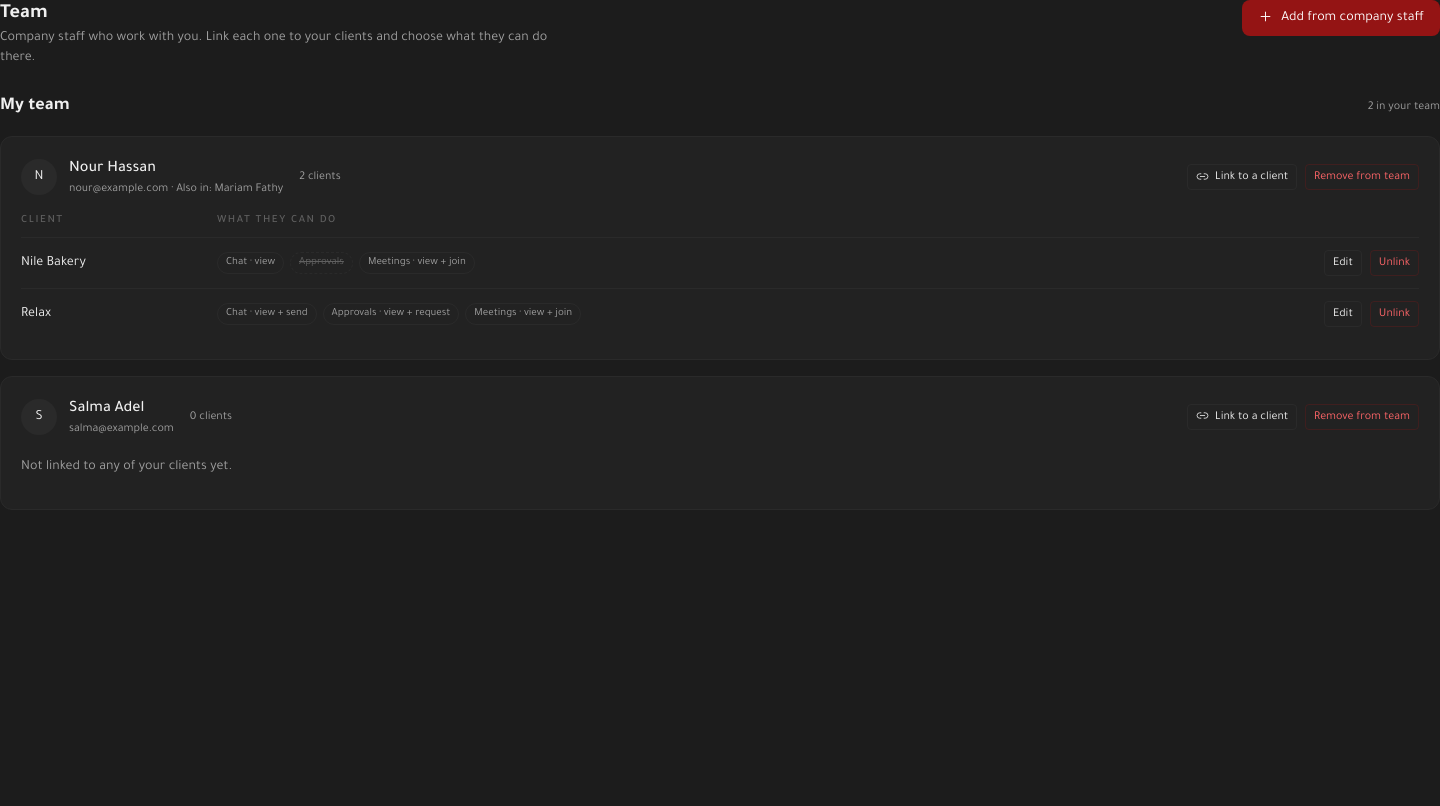
Test case: Team page (classic look) › adds several picked staff members to the team in one go
Click the button "Add from company staff". click: click(1341, 18)
box: 1242,0 -> 1439,36
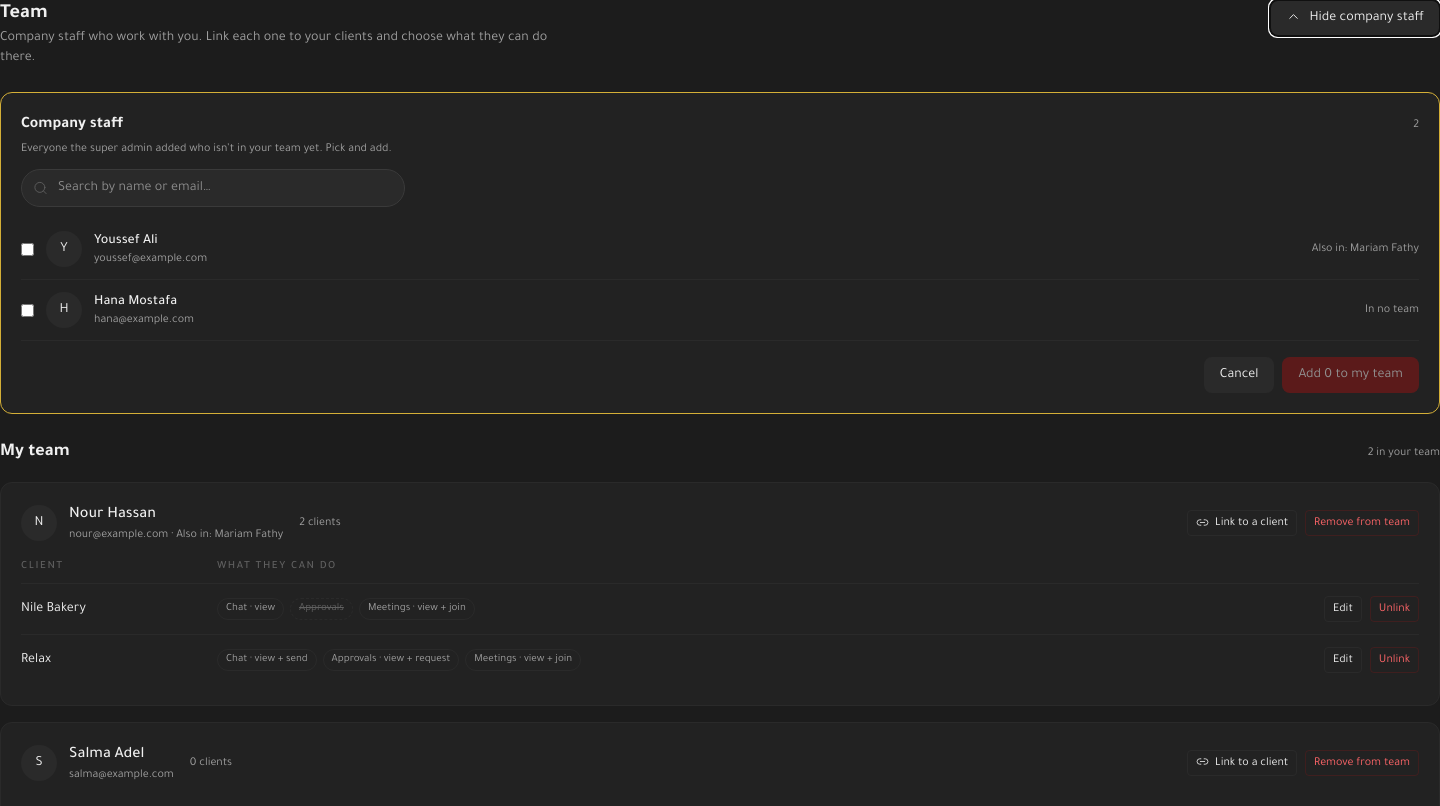
Result: the button "Add 0 to my team" is disabled at 1282,357 -> 1419,393
Click the checkbox labelled "Youssef Ali". click: click(28, 249)
box: 21,242 -> 34,256
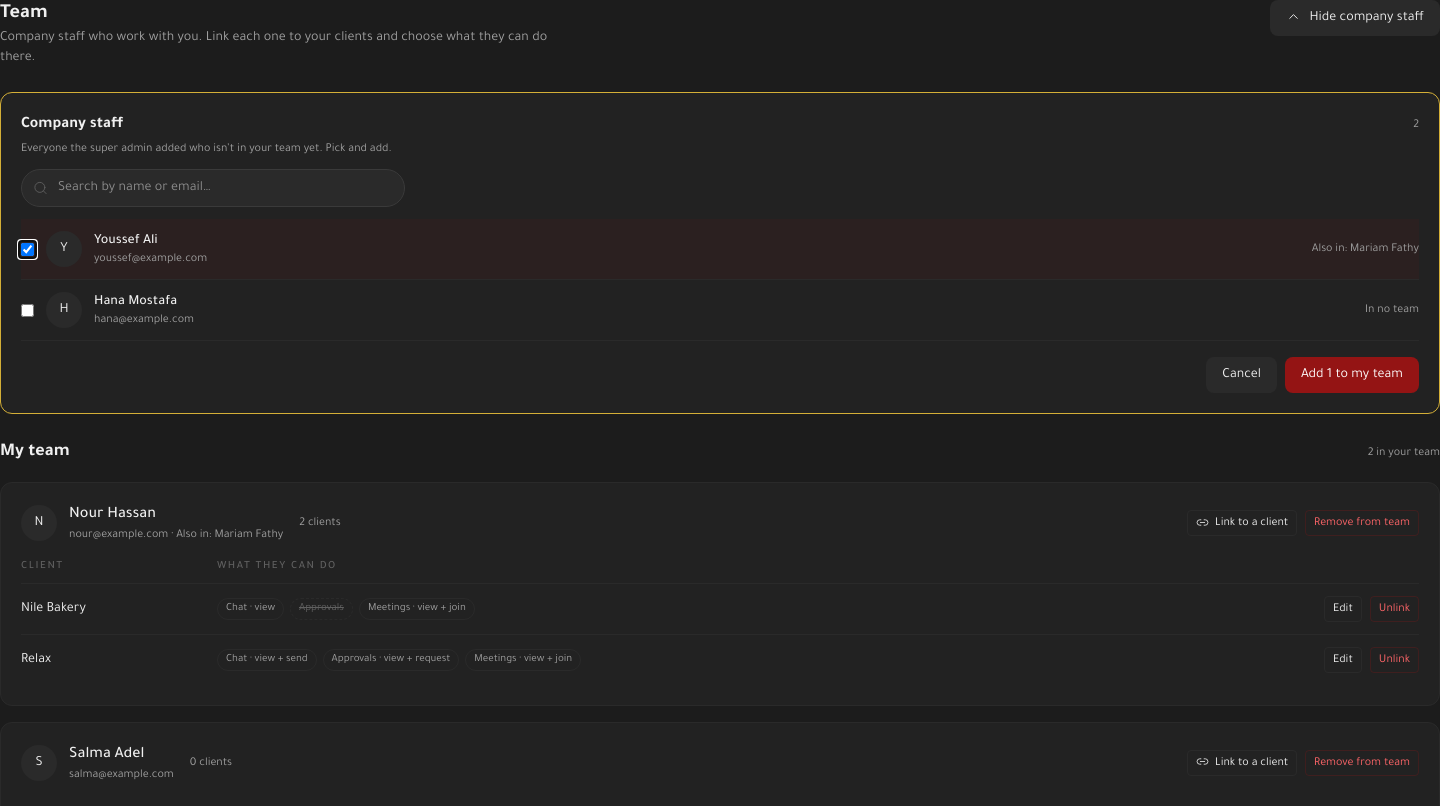
Click the checkbox labelled "Hana Mostafa". click: click(28, 310)
box: 21,304 -> 34,316
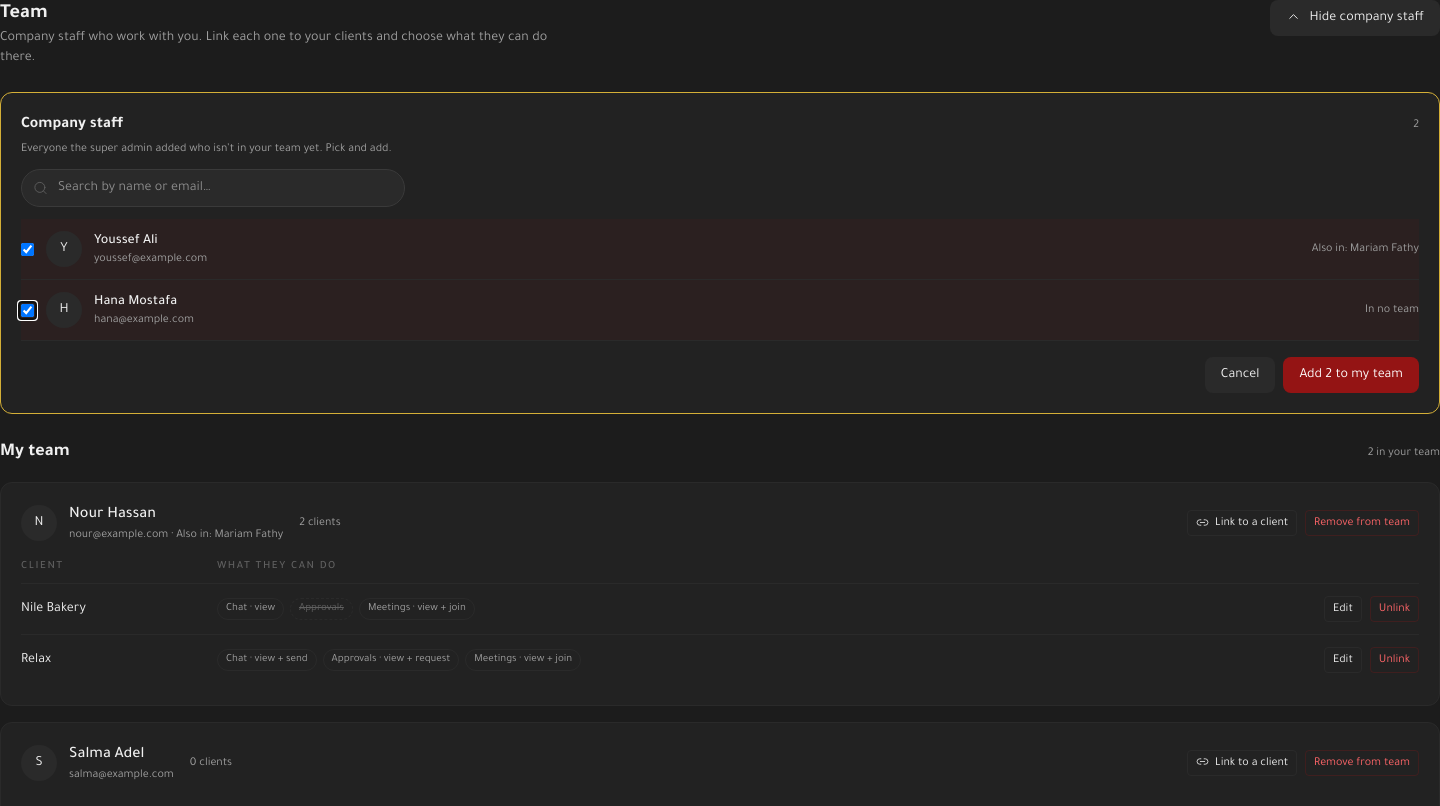
Click the button "Add 2 to my team". click: click(1351, 375)
box: 1283,357 -> 1419,393
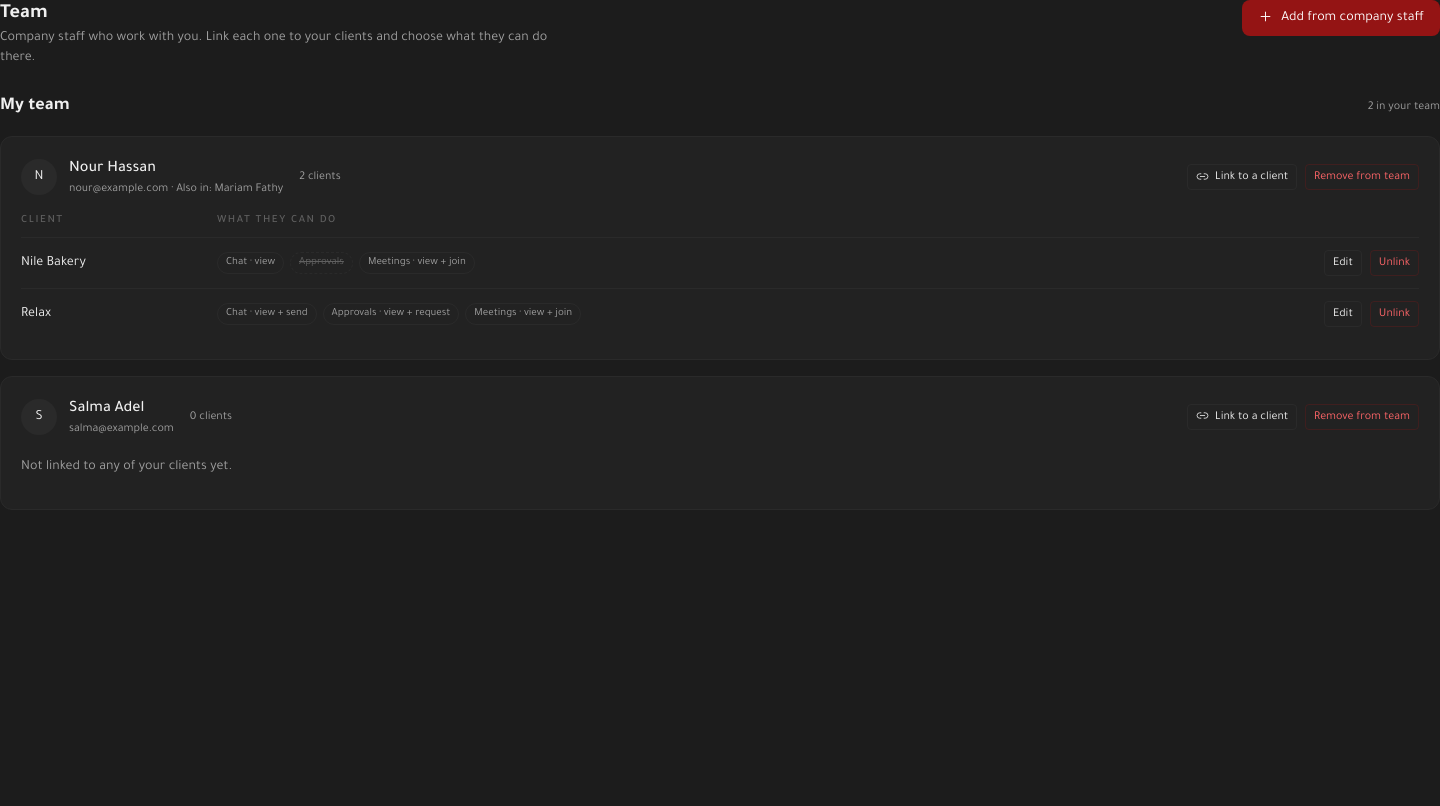
Result: the text "Hana Mostafa" is gone
